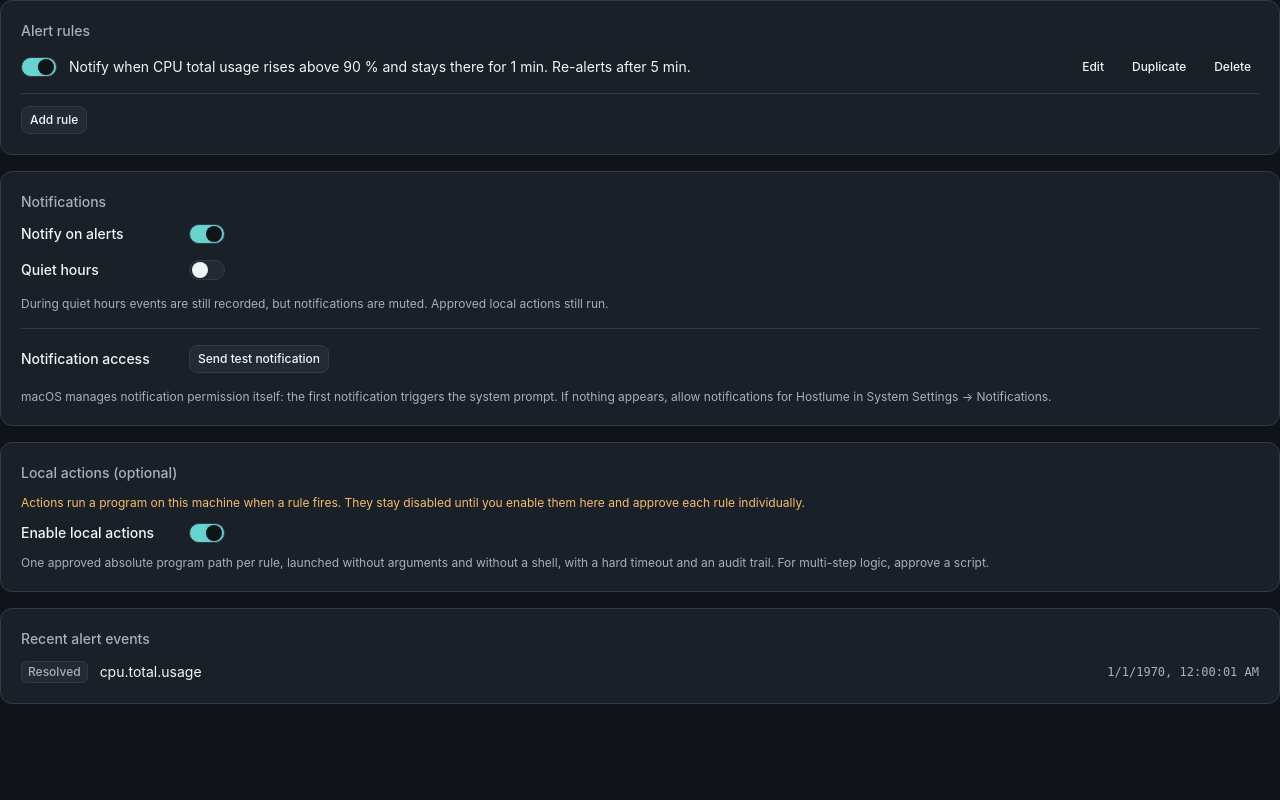
Test: AlertsSection › offers the action fields once the master gate is on
Click the button "Add rule". click: coordinates (54, 120)
box: [21, 106, 87, 134]
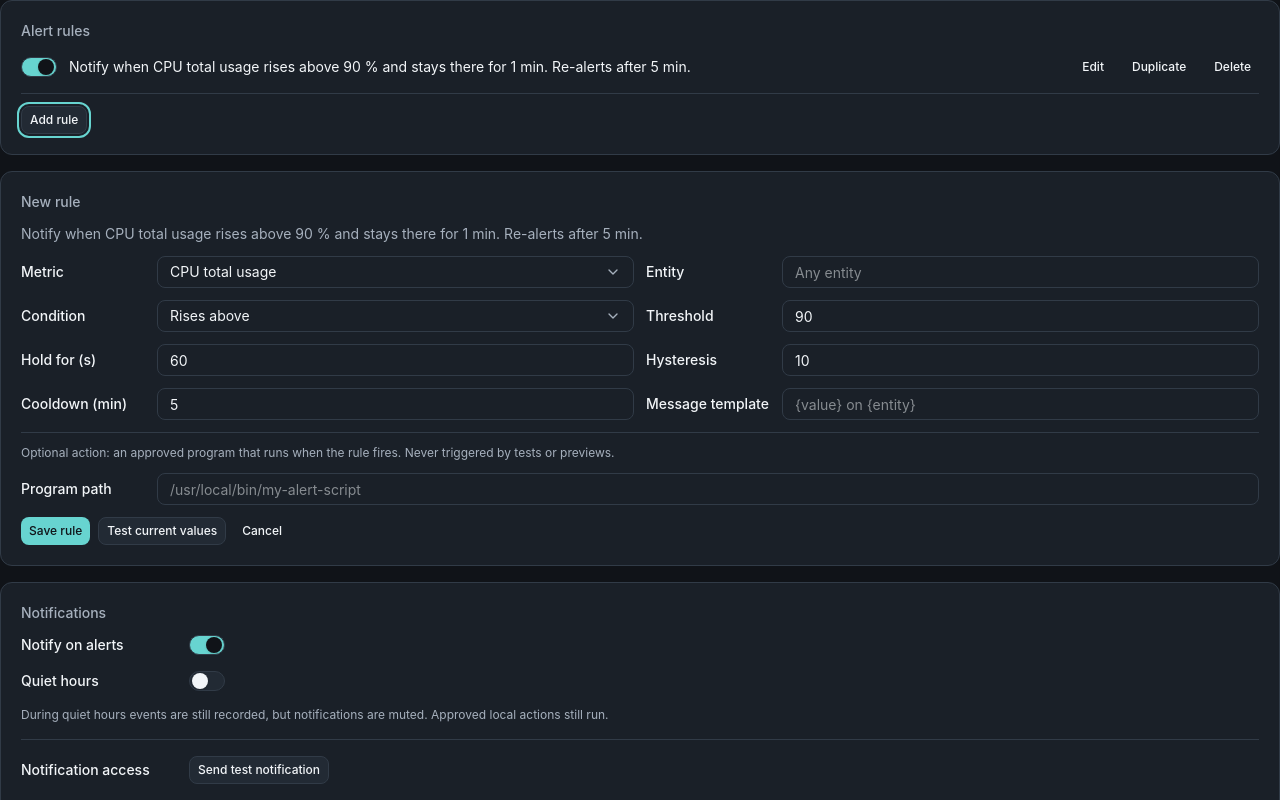
Now the text "Program path" is shown, box [21, 480, 112, 497]
Type "/usr/local/bin/notify-wrap" into the field labelled "Program path". click: coordinates (708, 489)
box: [157, 473, 1259, 505]
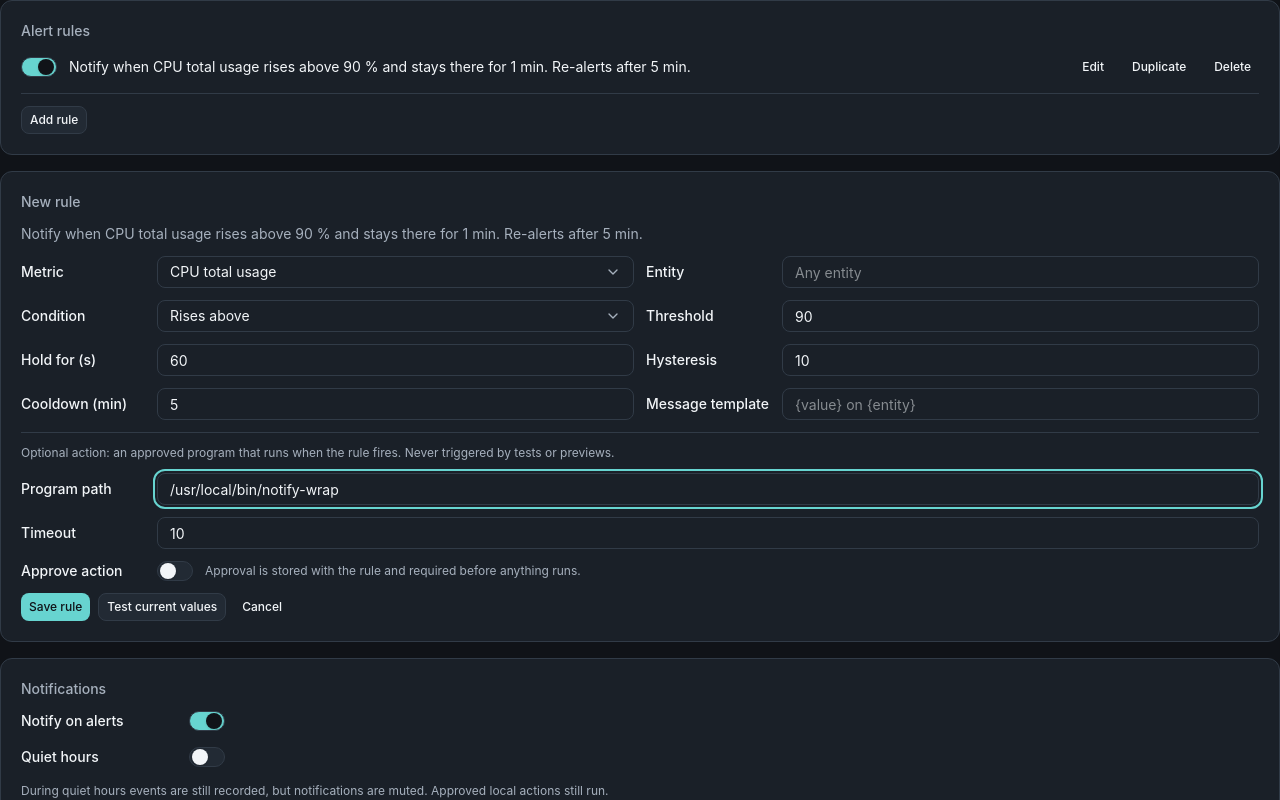
Now the switch named "Approve action" next to "Approve action" is shown, box [157, 561, 193, 581]
